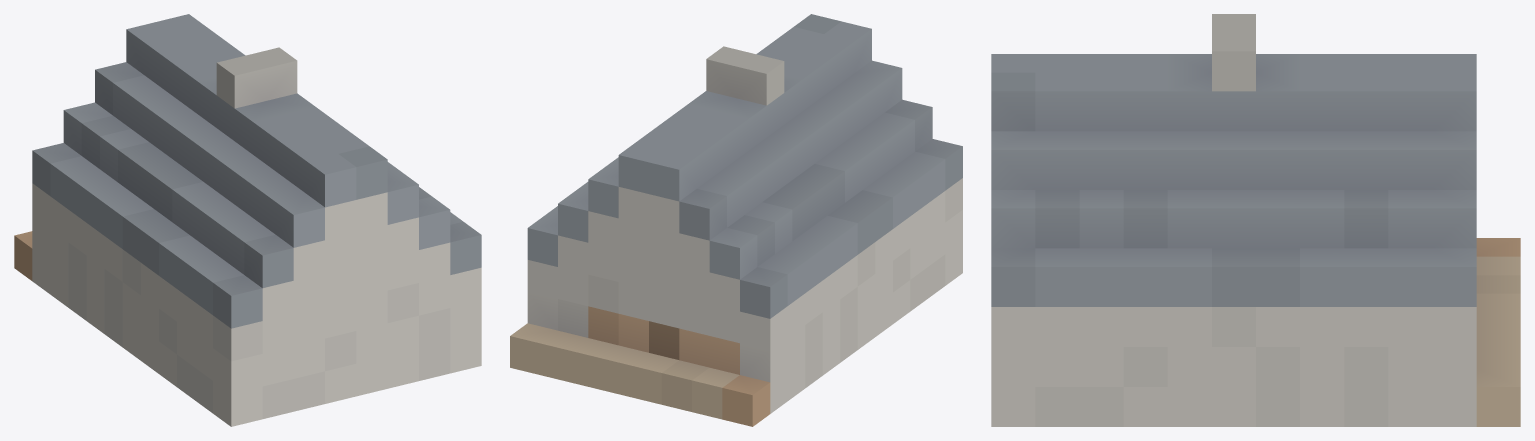
Rendered from glass_smelter.lite.glb.
3 renders of one model, left to right at view 1: azimuth 30°, elevation 25°; view 2: azimuth 150°, elevation 25°; view 3: azimuth 270°, elevation 25°, orthographic. The views are drawn at different scales.
Parts seen in each view (by area): view 1: glass_smelter; view 2: glass_smelter; view 3: glass_smelter.
Part boxes in pixels (x1=…): glass_smelter: x1=14, y1=14, x2=481, y2=426; glass_smelter: x1=510, y1=14, x2=962, y2=426; glass_smelter: x1=991, y1=14, x2=1520, y2=426.
Size of the model in its own units: 4 by 4 by 6.
